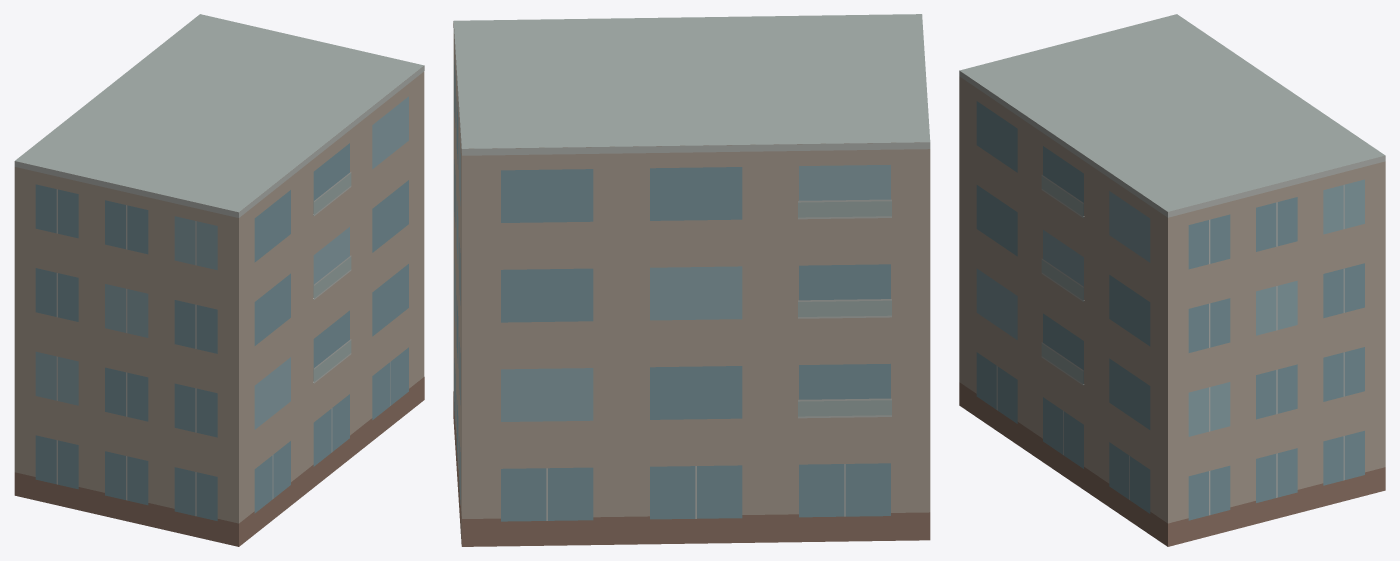
The model's file is survey-upis-32673029.glb.
3 views of the same model, side by side, from view 1: azimuth 30°, elevation 25°; view 2: azimuth 150°, elevation 25°; view 3: azimuth 270°, elevation 25° (orthographic). The views are drawn at different scales.
Visible parts, largest first — view 1: survey-upis-32673029.tmp; view 2: survey-upis-32673029.tmp; view 3: survey-upis-32673029.tmp.
Boxes of the visible parts, <box> form: survey-upis-32673029.tmp: <box>14,14,424,546</box>; survey-upis-32673029.tmp: <box>453,14,930,546</box>; survey-upis-32673029.tmp: <box>959,14,1385,546</box>.
Bounding box in the file's own units: 17.88 × 14.1 × 16.27.
